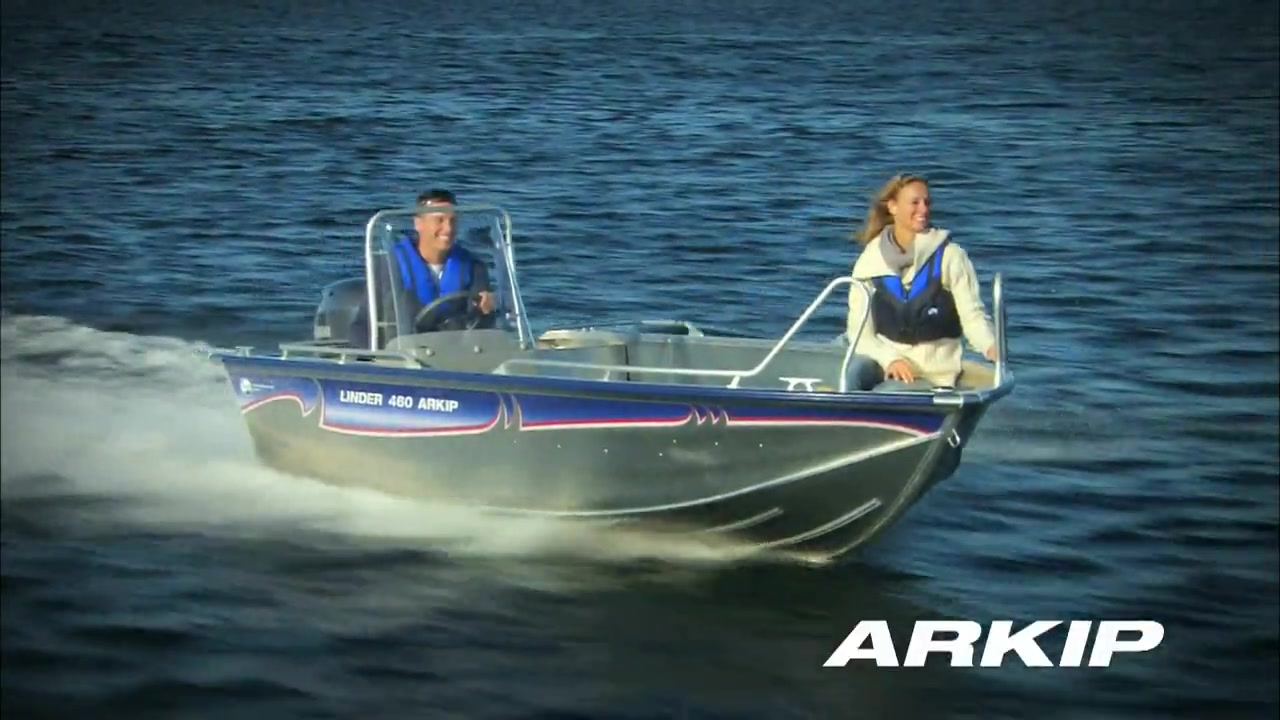boat: (207, 201, 1020, 570)
